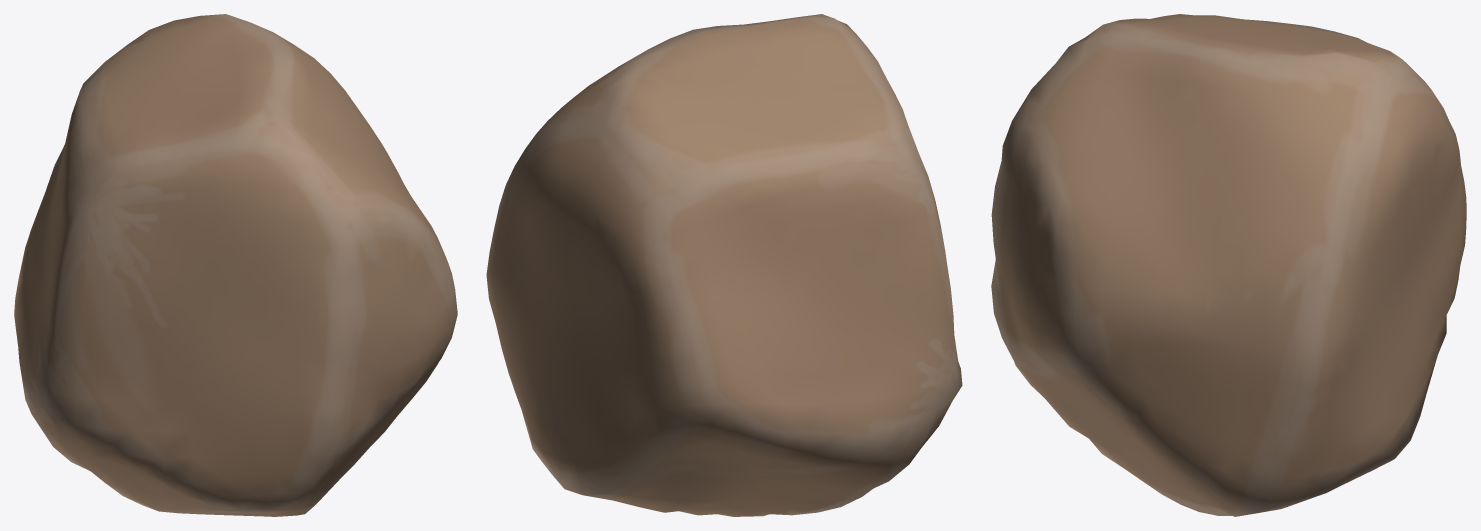
The model's file is Stone1.fbx.
3 renders of one model, left to right at view 1: azimuth 30°, elevation 25°; view 2: azimuth 150°, elevation 25°; view 3: azimuth 270°, elevation 25°, orthographic. The views are drawn at different scales.
Visible parts, largest first — view 1: Stone1; view 2: Stone1; view 3: Stone1.
Part boxes in pixels (x1,y1,x2,y2): Stone1: [14, 14, 457, 516]; Stone1: [486, 14, 962, 516]; Stone1: [991, 14, 1466, 516].
Size of the model in its own units: 55.26 by 60.53 by 57.19.
